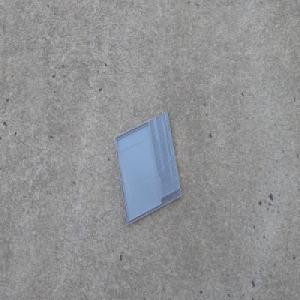PlasticPart: (113, 110, 182, 226)
